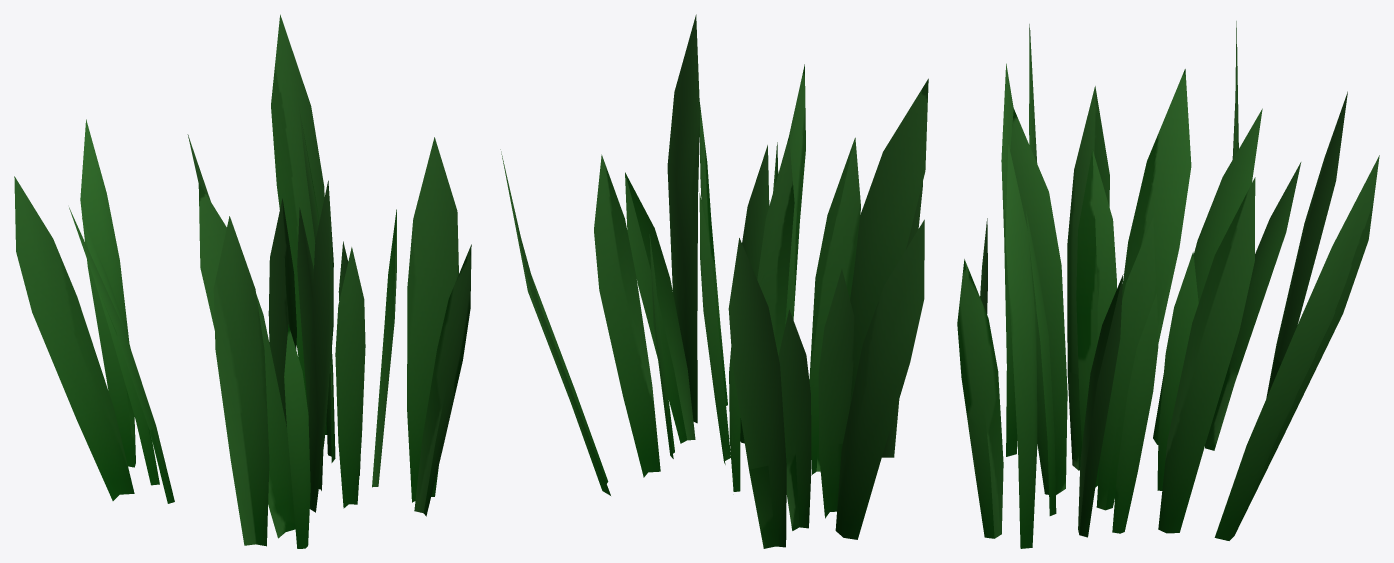
File: Grass_Green_2.fbx
3 views of the same model, side by side, from view 1: azimuth 30°, elevation 25°; view 2: azimuth 150°, elevation 25°; view 3: azimuth 270°, elevation 25° (orthographic). The views are drawn at different scales.
Parts seen in each view (by area): view 1: Grass_Green_2; view 2: Grass_Green_2; view 3: Grass_Green_2.
Boxes of the visible parts, <box> form: Grass_Green_2: <box>14,14,471,548</box>; Grass_Green_2: <box>500,14,928,548</box>; Grass_Green_2: <box>957,21,1379,548</box>.
Size of the model in its own units: 0.4846 by 0.5054 by 0.47.
